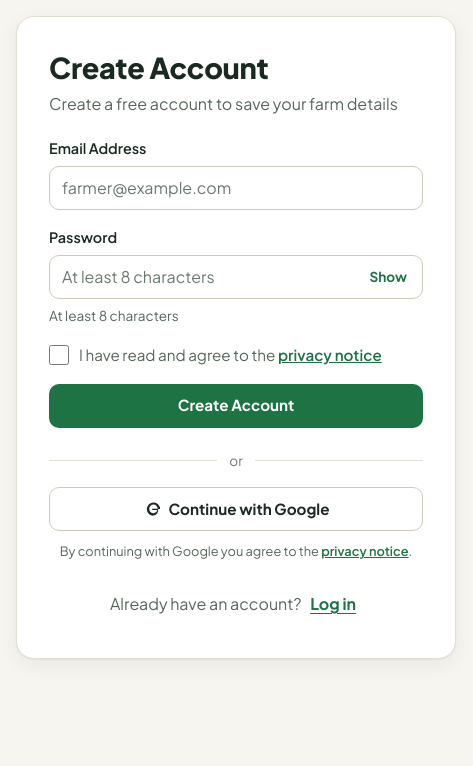
Register › explains an invalid email
This screenshot has width=473, height=766.
Type "farmer.example.com" into the field labelled "Email Address".
click(236, 188); type("farmer.example.com")  # box [49,166,423,210]
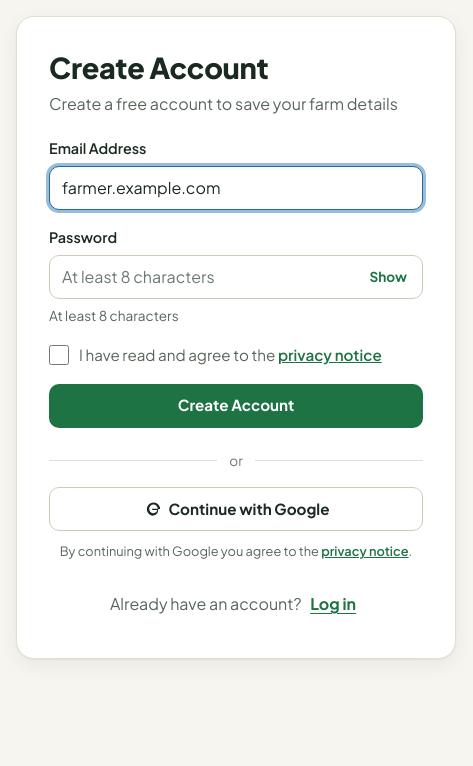
Type "long-enough-1" into the password field labelled "Password".
click(236, 277); type("long-enough-1")  # box [49,255,423,300]
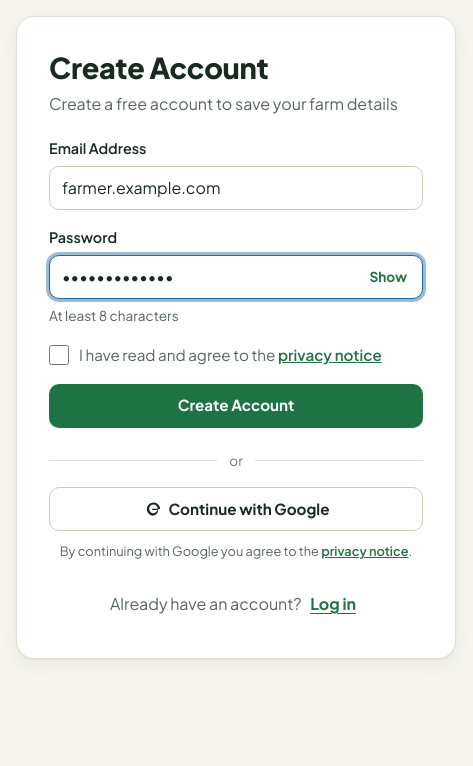
Click the checkbox.
click(59, 355)  # box [49,345,69,365]
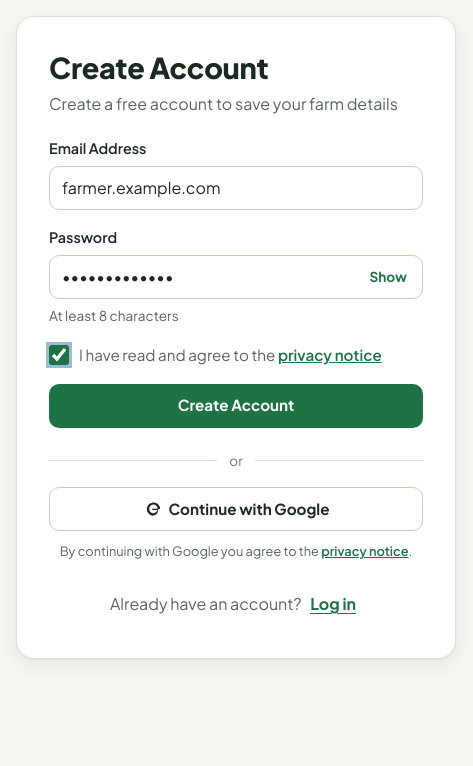
Click the button "Create Account".
click(236, 406)  # box [49,384,423,428]
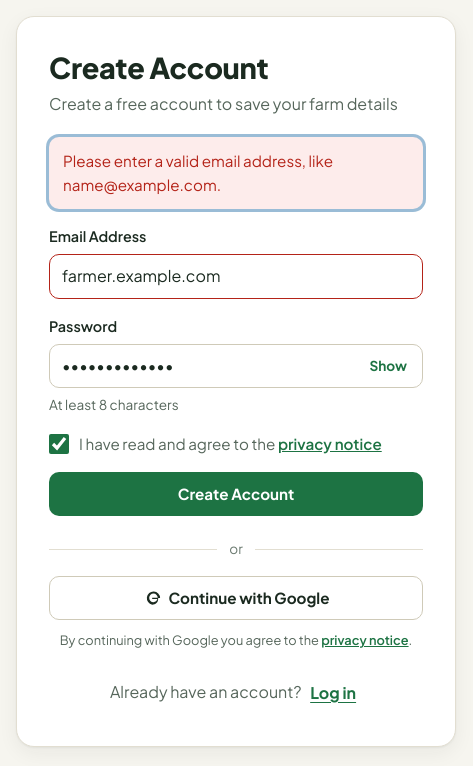
Expected: the message shows "valid email", [63,151,333,194]
